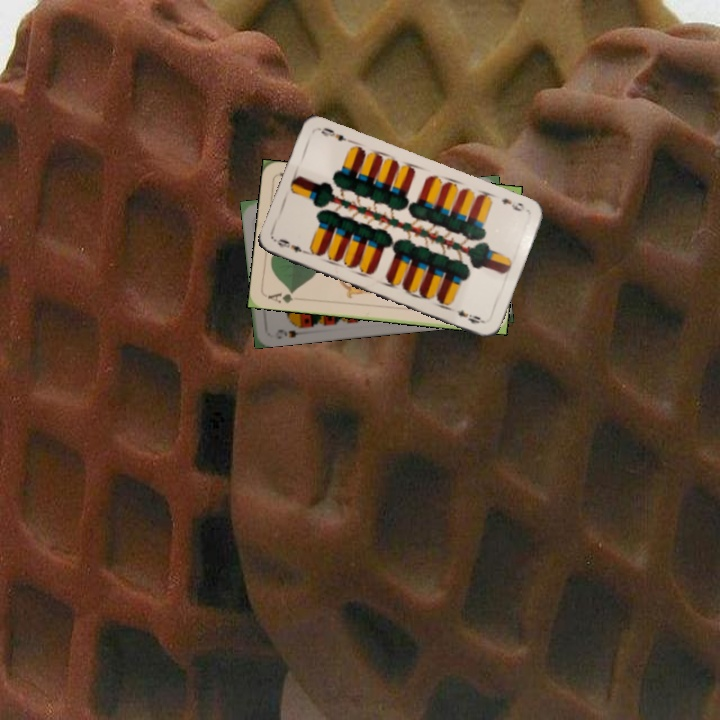E9: (271, 235, 311, 257), (497, 194, 528, 214)
GA: (264, 287, 296, 306)
S9: (273, 320, 309, 341)
